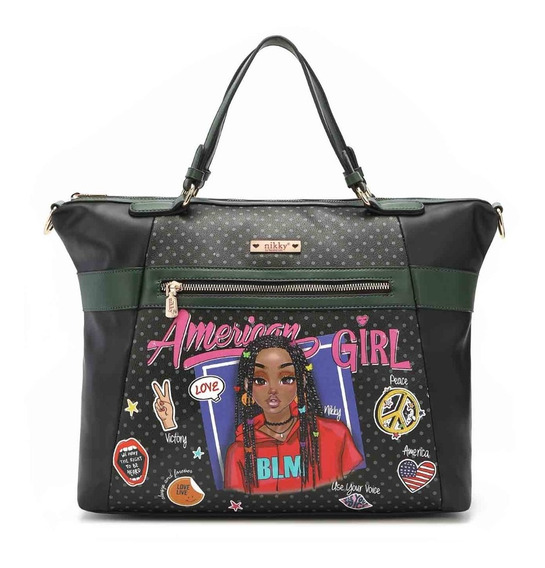cartera: (41, 36, 503, 524)
